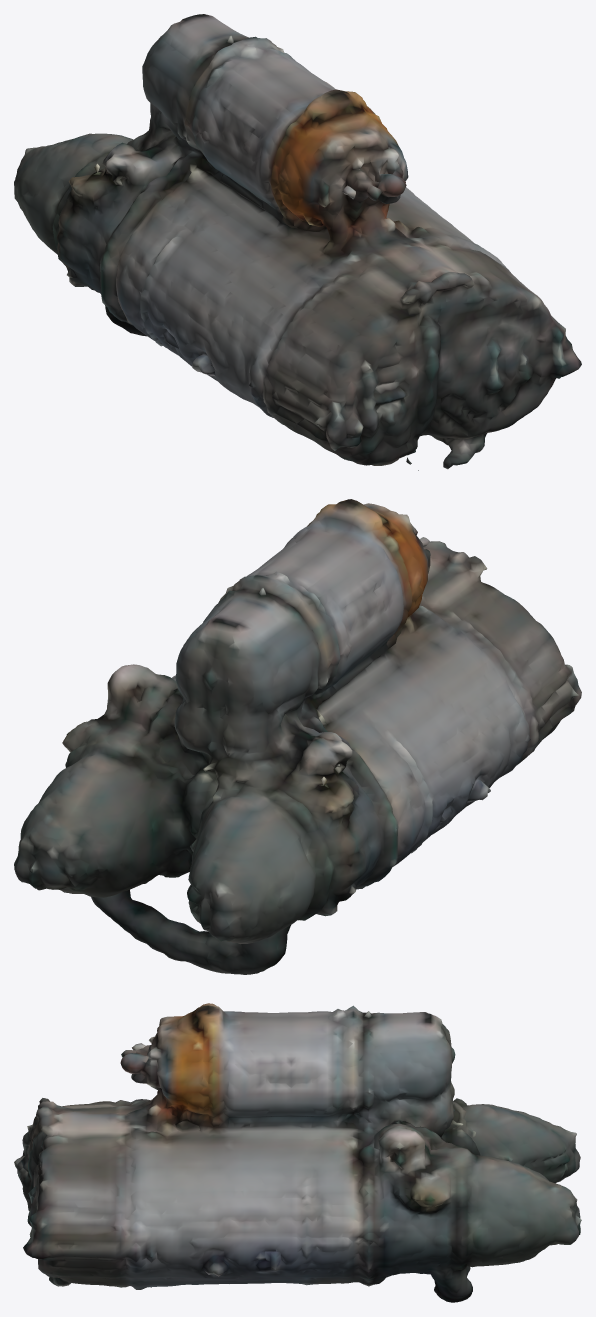
The model's file is starter.glb.
The picture shows the model from 3 angles, top to bottom: view 1: azimuth 30°, elevation 25°; view 2: azimuth 150°, elevation 25°; view 3: azimuth 270°, elevation 25°; orthographic projection. The views are drawn at different scales.
Visible parts, largest first — view 1: geometry_0; view 2: geometry_0; view 3: geometry_0.
Boxes of the visible parts, x1,y1,x2,y2 form: geometry_0: (14, 14, 581, 470); geometry_0: (14, 499, 581, 974); geometry_0: (14, 1003, 581, 1302).
Bounding box in the file's own units: 0.4991 × 0.5525 × 1.
